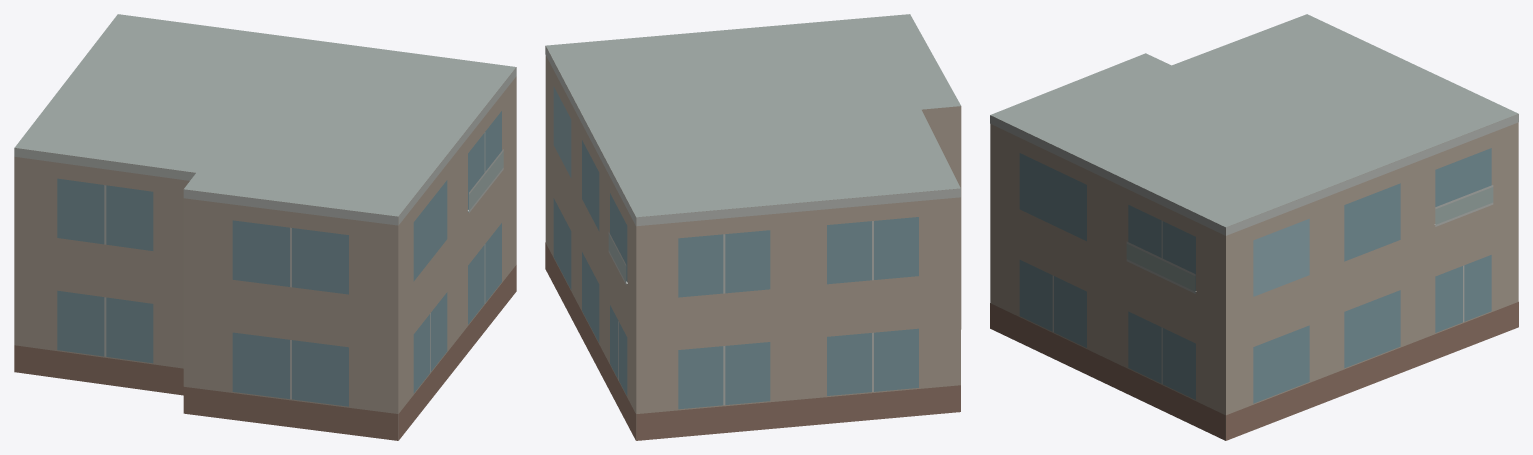
The model's file is survey-upis-32658162.glb.
3 renders of one model, left to right at view 1: azimuth 30°, elevation 25°; view 2: azimuth 150°, elevation 25°; view 3: azimuth 270°, elevation 25°, orthographic. The views are drawn at different scales.
Parts seen in each view (by area): view 1: survey-upis-32658162.tmp; view 2: survey-upis-32658162.tmp; view 3: survey-upis-32658162.tmp.
Part boxes in pixels (bbox=[...]): survey-upis-32658162.tmp: bbox=[14, 14, 516, 440]; survey-upis-32658162.tmp: bbox=[545, 14, 961, 440]; survey-upis-32658162.tmp: bbox=[990, 14, 1518, 440].
Bounding box in the file's own units: 13.08 × 6.1 × 13.7.
